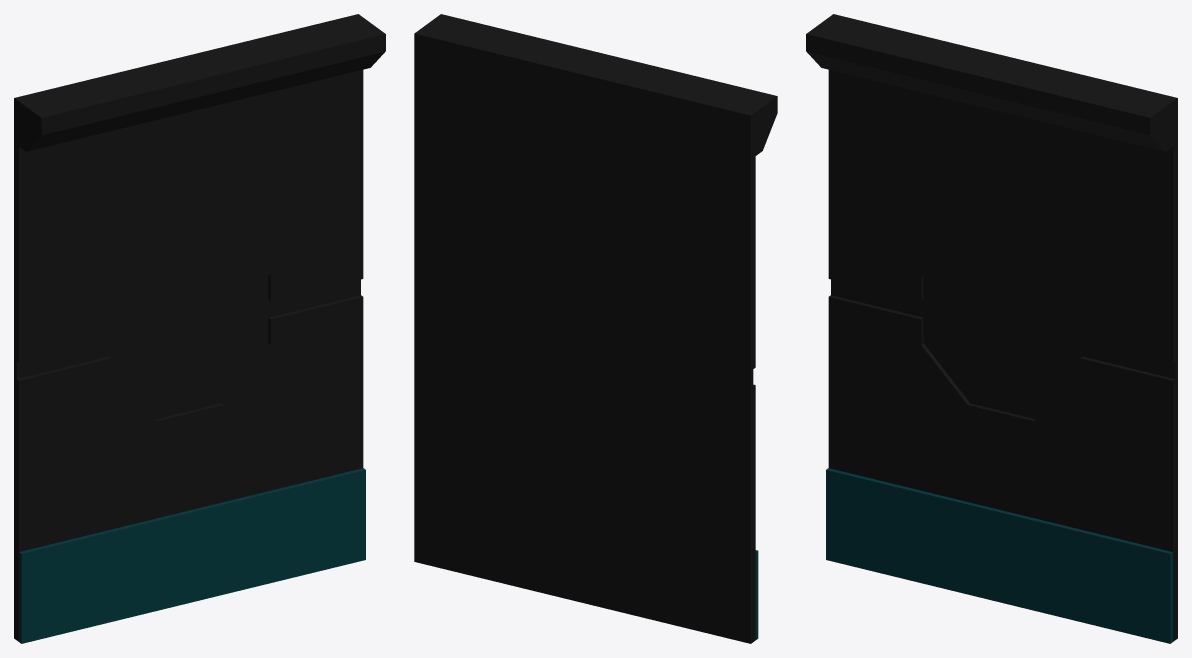
File: Sci_Fi_Wall_3.obj
The picture shows the model from 3 angles, left to right: view 1: azimuth 30°, elevation 25°; view 2: azimuth 150°, elevation 25°; view 3: azimuth 330°, elevation 25°; orthographic projection. The views are drawn at different scales.
Size of the model in its own units: 0.6667 by 1 by 0.0917.
